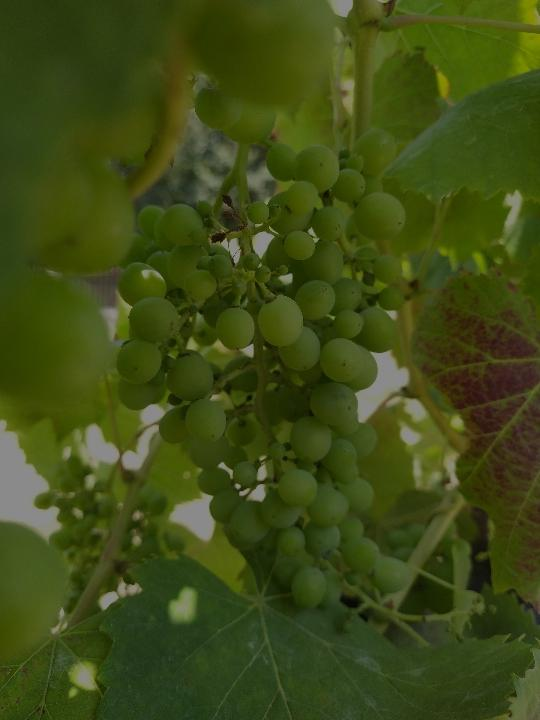grape: (106, 123, 411, 633)
